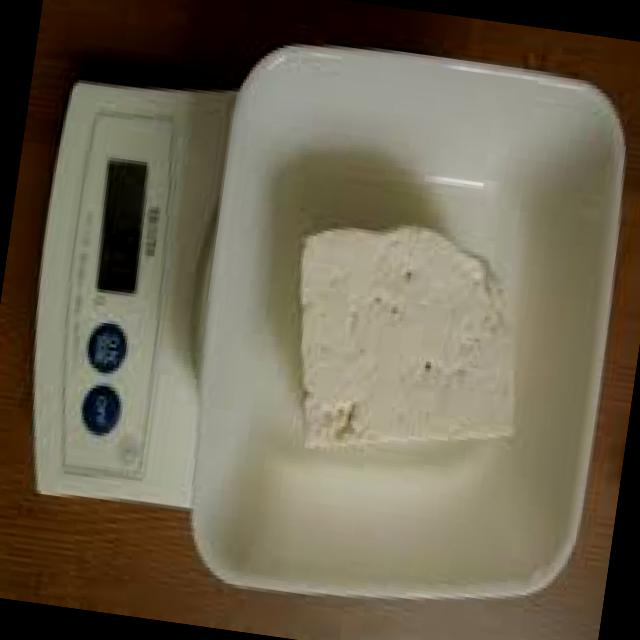tof: (259, 182, 538, 512)
